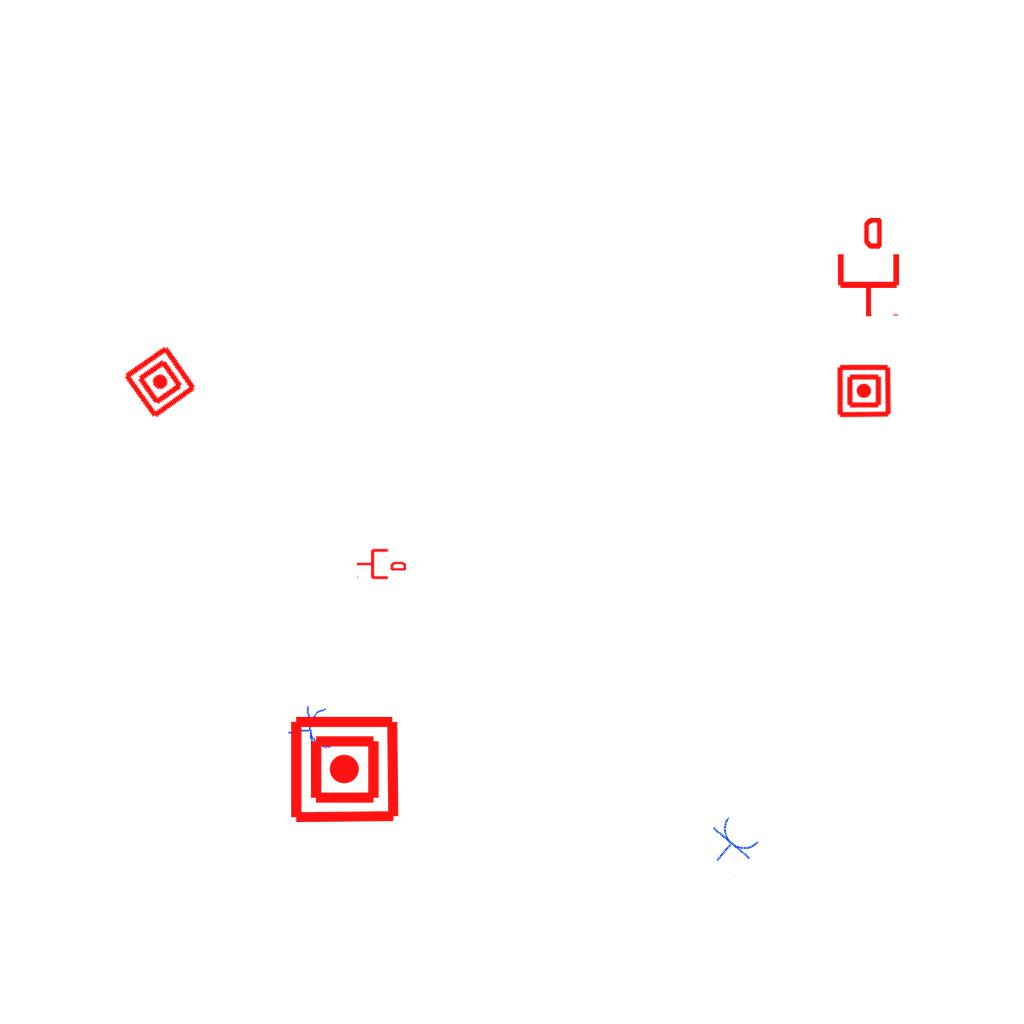Datenanschluss_einfach: (834, 218, 903, 318), (356, 547, 406, 581)
NAM-Nichtautomatischer_Melder: (288, 713, 401, 826), (121, 343, 199, 421), (836, 363, 892, 419)
Schukosteckdose_einfach: (698, 811, 764, 878), (284, 703, 334, 758)
